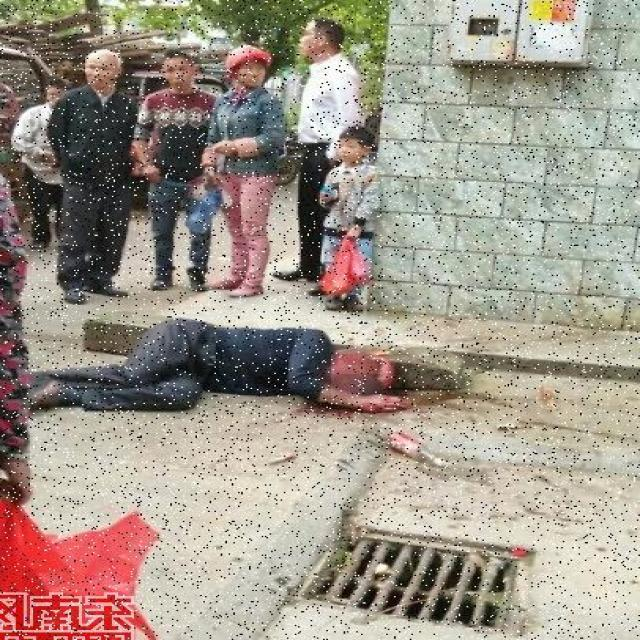fall: (34, 319, 406, 415)
